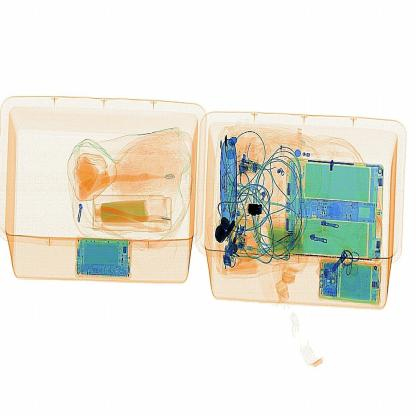scissors: (242, 196, 274, 227)
